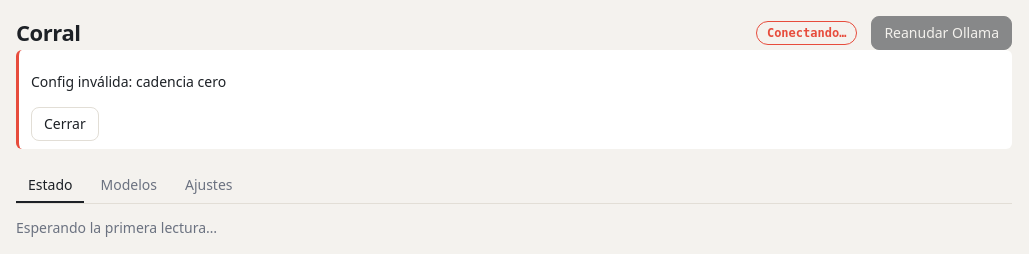
Scenario: muestra los avisos pendientes al abrir el panel y permite cerrarlos
This screenshot has width=1029, height=254.
expect the text "Config inválida: cadencia cero" is shown: met, box [31,72,226,91]
Click the button "Cerrar" at (65, 124), box [31,107,99,141]
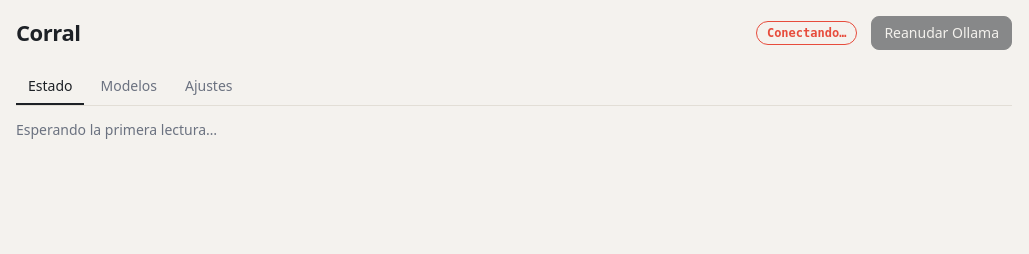
expect the text "Config inválida: cadencia cero" is gone: met
